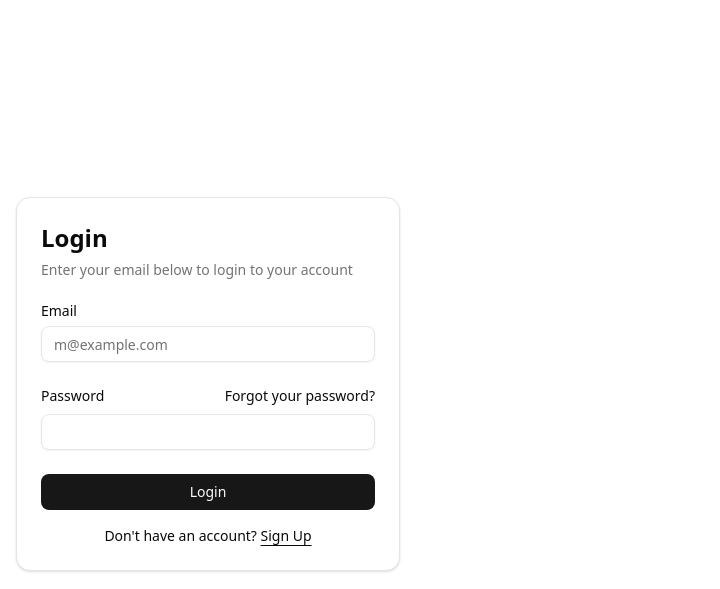
Test case: LoginPage › shows error alert on failed login
Type "wrong@example.com" into the field labelled "Email". click: (208, 344)
box: [41, 326, 375, 362]
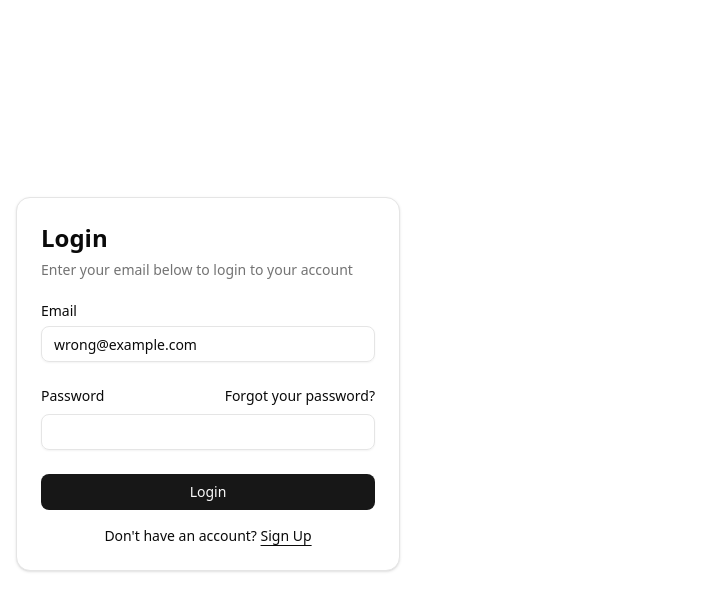
Type "wrongpass" into the password field labelled "Password". click: (208, 432)
box: [41, 414, 375, 450]
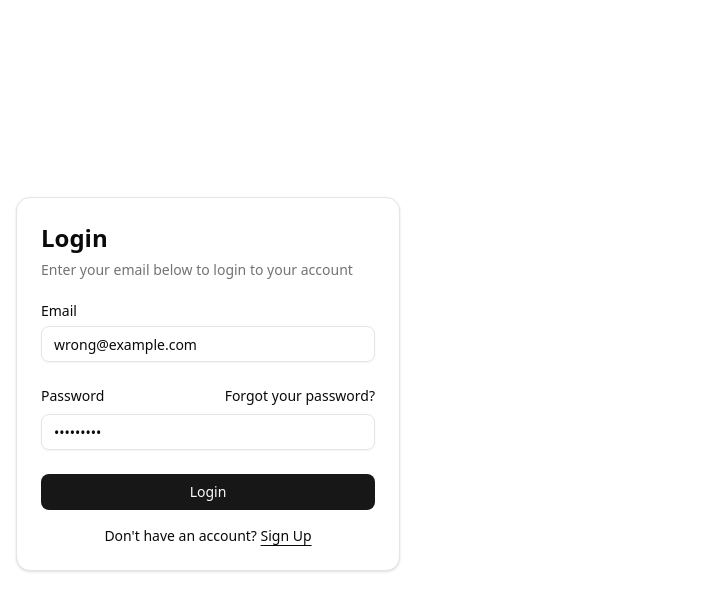
Click the button "Login". click: (208, 492)
box: [41, 474, 375, 510]
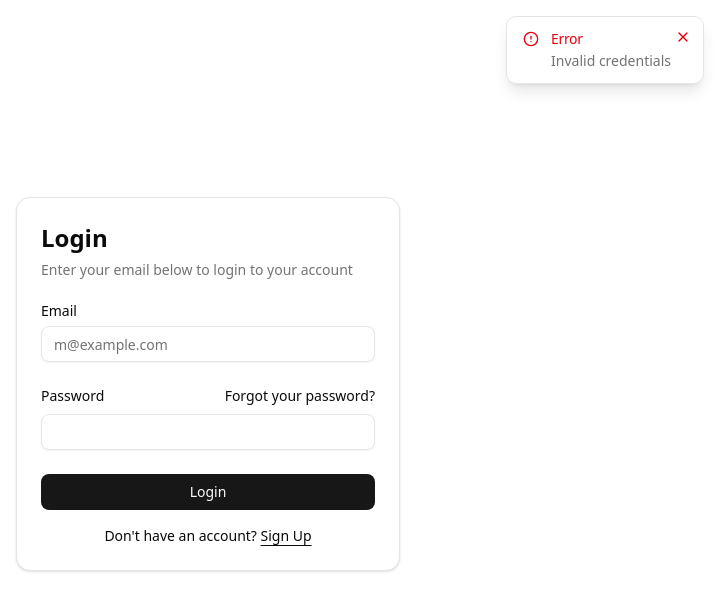
Result: the text "Invalid credentials" is shown at [551, 51, 671, 71]
